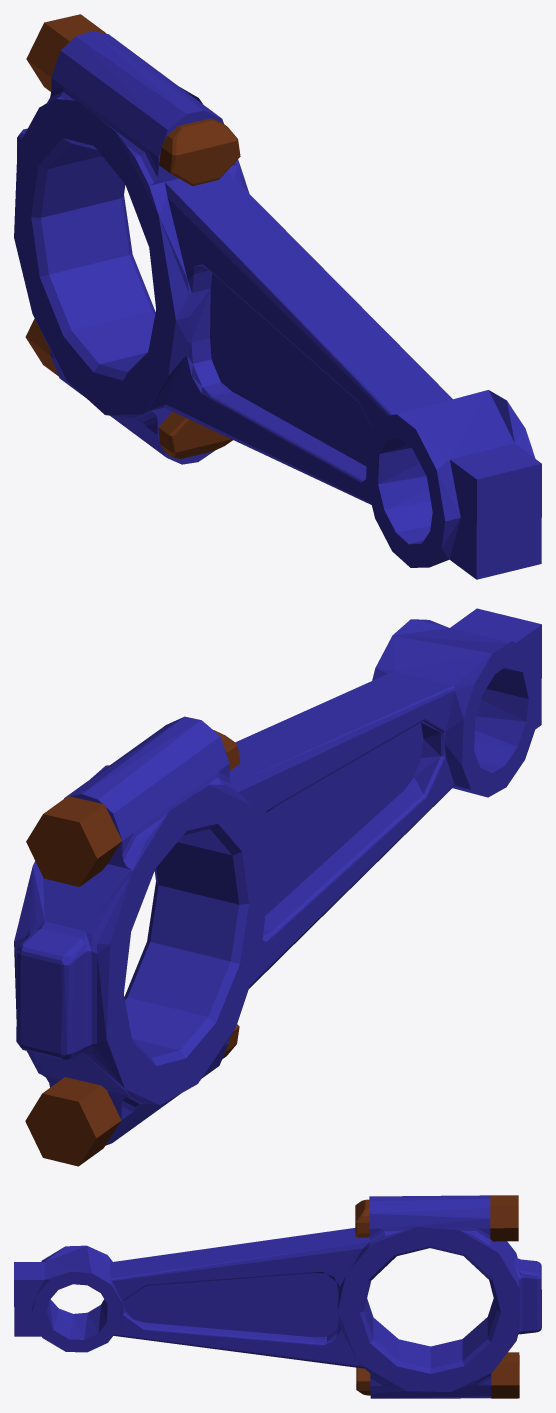
The model's file is rod.glb.
3 views of the same model, one above another, from view 1: azimuth 30°, elevation 25°; view 2: azimuth 150°, elevation 25°; view 3: azimuth 270°, elevation 25° (orthographic). The views are drawn at different scales.
Parts seen in each view (by area): view 1: VIFS128_mesh_, VIFS127_mesh_, VIFS124_mesh_, VIFS126_mesh_, VIFS122_mesh_, VIFS123_mesh_, VIFS125_mesh_; view 2: VIFS128_mesh_, VIFS127_mesh_, VIFS126_mesh_, VIFS125_mesh_; view 3: VIFS128_mesh_, VIFS127_mesh_, VIFS126_mesh_, VIFS125_mesh_, VIFS124_mesh_, VIFS122_mesh_.
Part boxes in pixels (<box>): VIFS128_mesh_: <box>14,31,541,579</box>; VIFS127_mesh_: <box>41,143,154,371</box>; VIFS124_mesh_: <box>159,118,240,186</box>; VIFS126_mesh_: <box>26,14,105,91</box>; VIFS122_mesh_: <box>158,412,230,458</box>; VIFS123_mesh_: <box>176,122,236,155</box>; VIFS125_mesh_: <box>25,318,58,375</box>; VIFS128_mesh_: <box>14,608,541,1145</box>; VIFS127_mesh_: <box>125,829,239,1057</box>; VIFS126_mesh_: <box>26,796,121,886</box>; VIFS125_mesh_: <box>25,1077,121,1166</box>; VIFS128_mesh_: <box>14,1195,541,1398</box>; VIFS127_mesh_: <box>364,1298,496,1368</box>; VIFS126_mesh_: <box>490,1195,518,1241</box>; VIFS125_mesh_: <box>491,1352,519,1398</box>; VIFS124_mesh_: <box>355,1199,369,1237</box>; VIFS122_mesh_: <box>356,1367,370,1395</box>.
Size of the model in its own units: 0.31 by 1.09 by 2.62.
